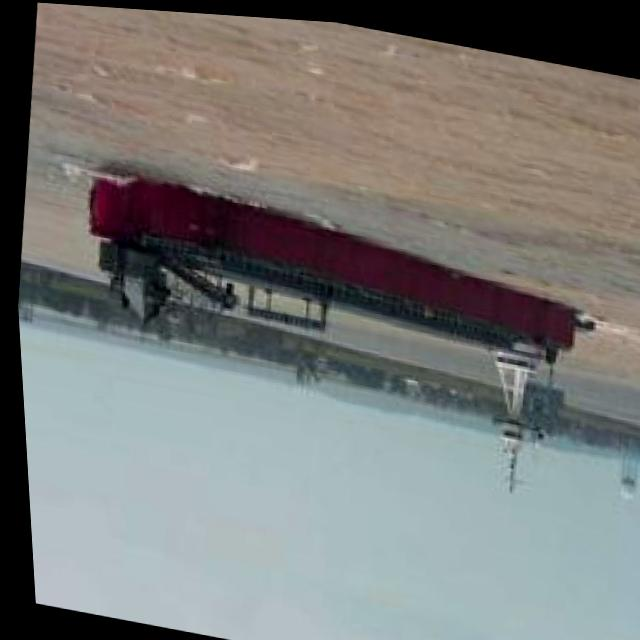ship2: (84, 172, 574, 486)
